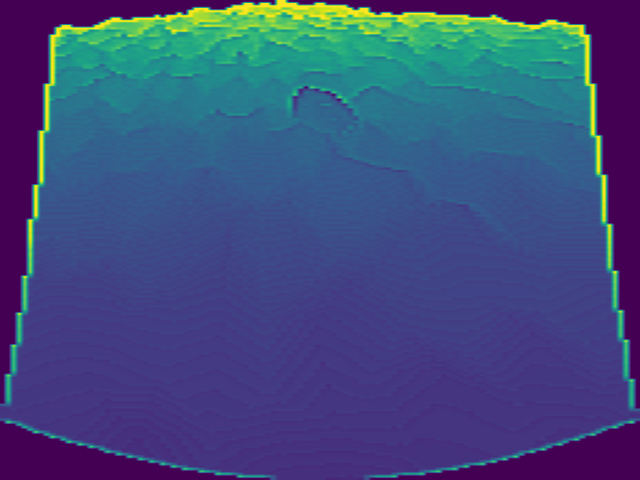car_0198: (289, 84, 360, 129)
